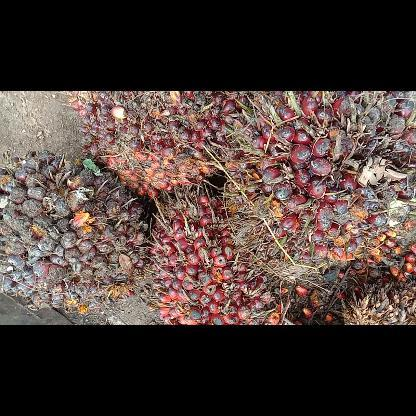Kurang masak: (0, 145, 154, 313)
TBS masak: (221, 90, 415, 284), (146, 180, 302, 324), (64, 90, 260, 202)
